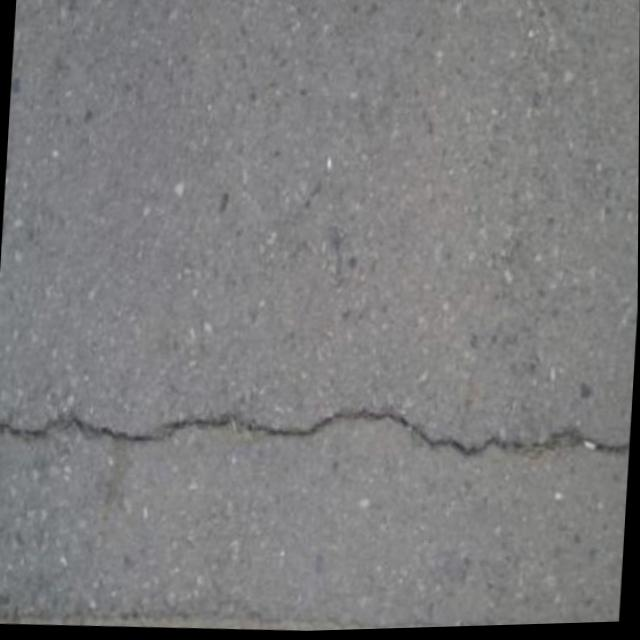Crack: (0, 378, 627, 485)
